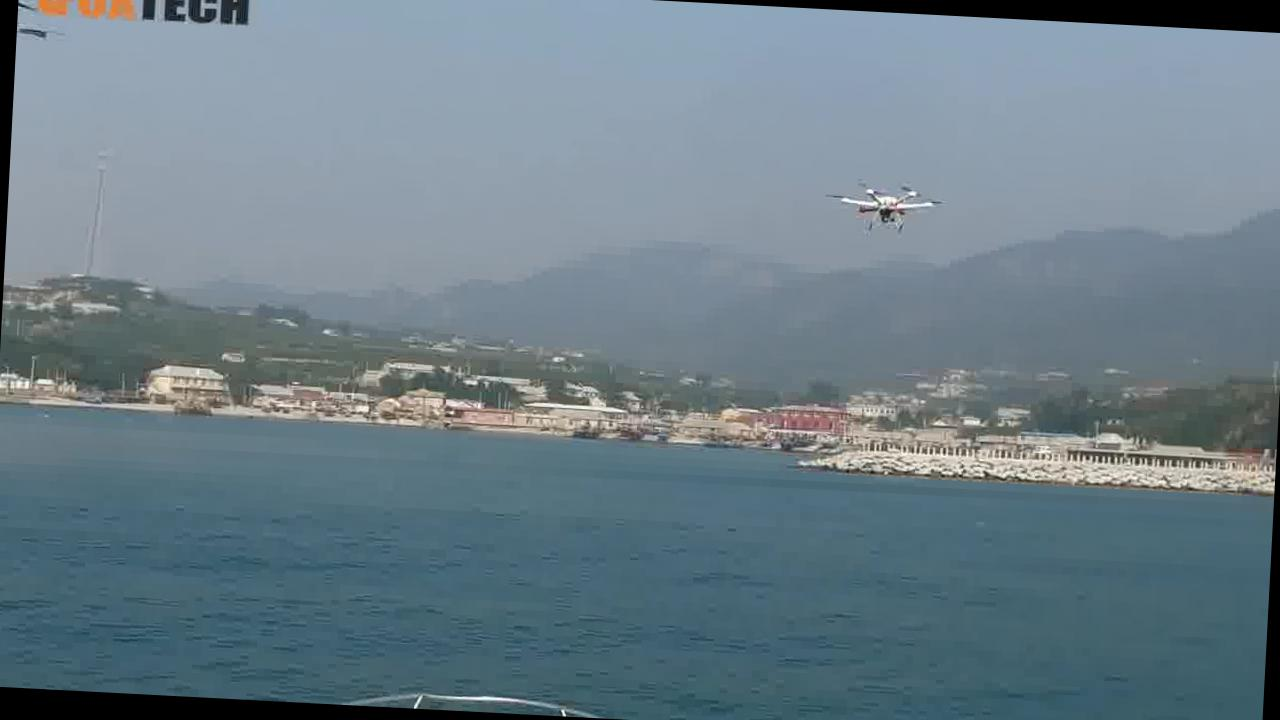drone: (824, 173, 945, 241)
